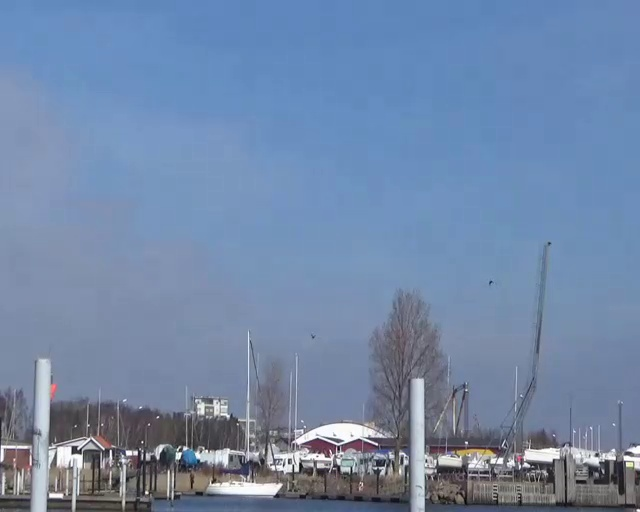BIRD: (488, 279, 494, 286)
